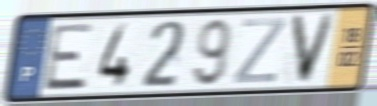2: (139, 18, 188, 91)
4: (96, 21, 133, 89)
9: (190, 16, 235, 89)
E: (41, 21, 97, 93)
V: (288, 11, 338, 87)
Z: (230, 16, 289, 87)
